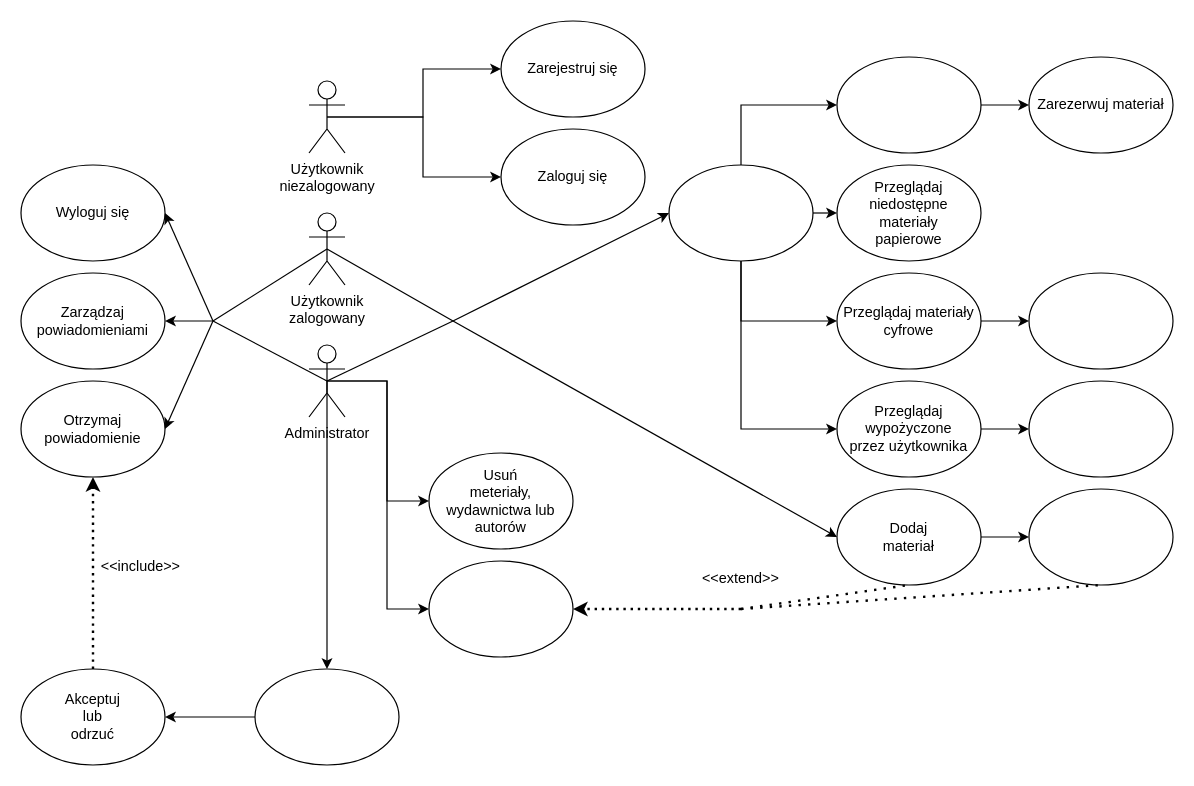
Image size: 1194x786. Some labels were removed from this diagram. The shapes that lost their labels are listed below. From the top down, each one's box as (x1, y1, x2, y2) in pixels, then its label:
(836, 56, 981, 153): Przeglądaj dostępne materiały papierowe
(668, 164, 813, 261): Przeglądaj
(1028, 272, 1173, 369): Pobierz materiał
(1028, 380, 1173, 477): Prolonguj wypożyczenie
(1028, 488, 1173, 585): Dodaj: autora wydawnictwo
(428, 560, 573, 657): Zaakceptuj lub odrzuć dodane materiały lub wydawnictwo
(254, 668, 399, 765): Przeglądaj wypożyczone przez użytkowników
